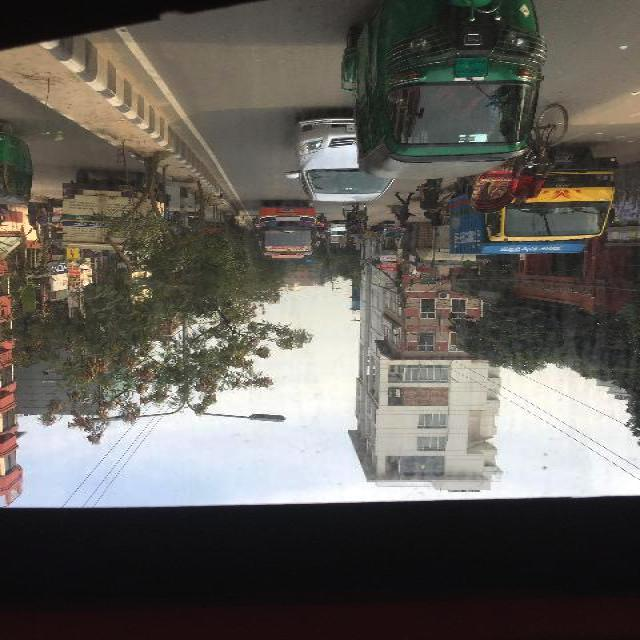white: (299, 119, 407, 205)
